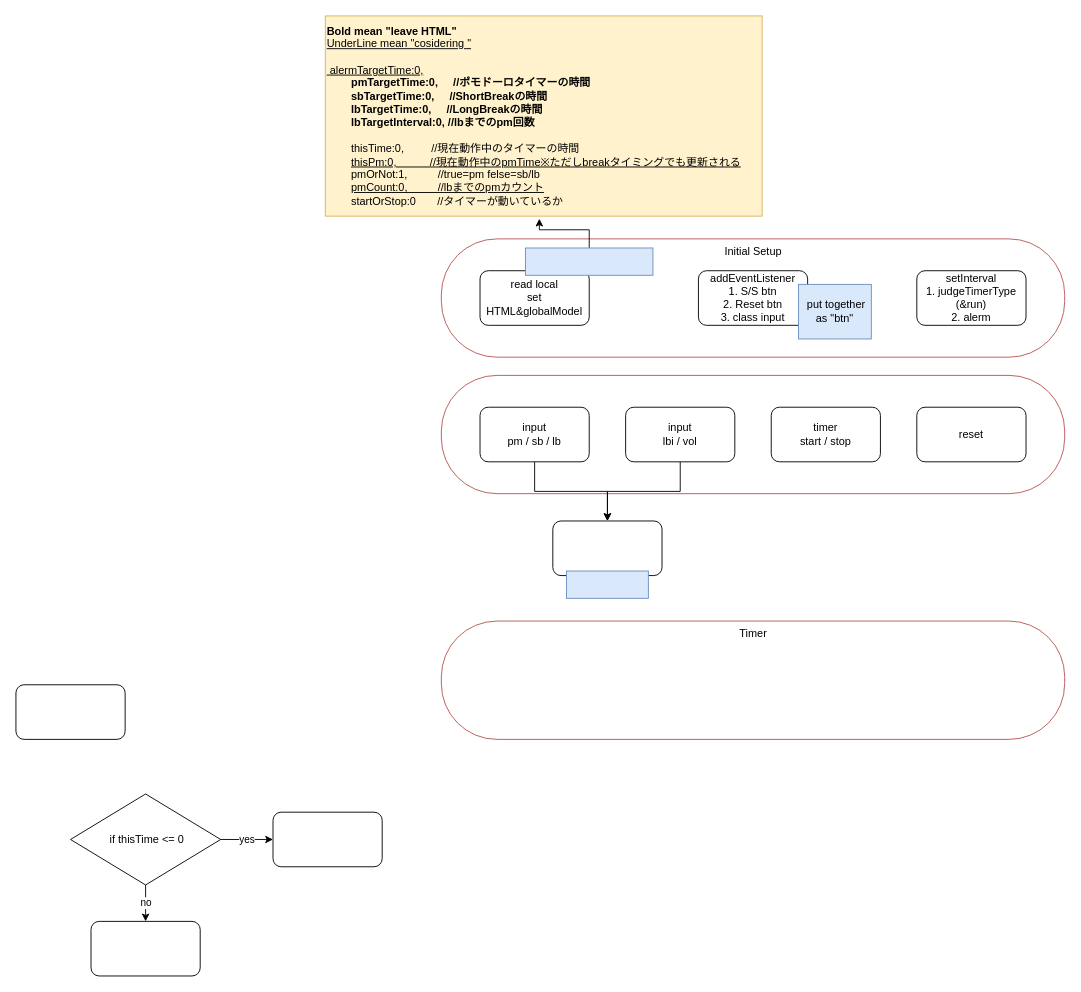
The diagram is 1081 pixels wide and 992 high, and some of its shapes have lost their labels. The box of each missing label's shape, as (x1, y1, x2, y2) in pixels:
Leave some as HTML: (525, 247, 653, 275)
set local only: (566, 570, 648, 598)
set local reflesh gM (multiple 60): (552, 520, 662, 576)
set thisTime = targetTime set thisPm = targetTime: (272, 811, 382, 867)
thisTime -= 1; set local thisTime; set HTML thisTime;: (90, 920, 200, 976)
User Action: (440, 374, 1065, 494)
